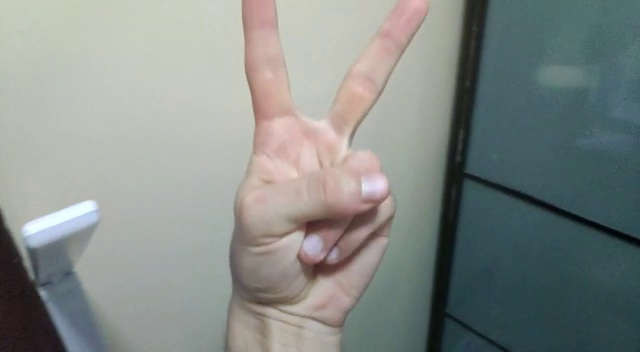Peace: (216, 1, 437, 305)
